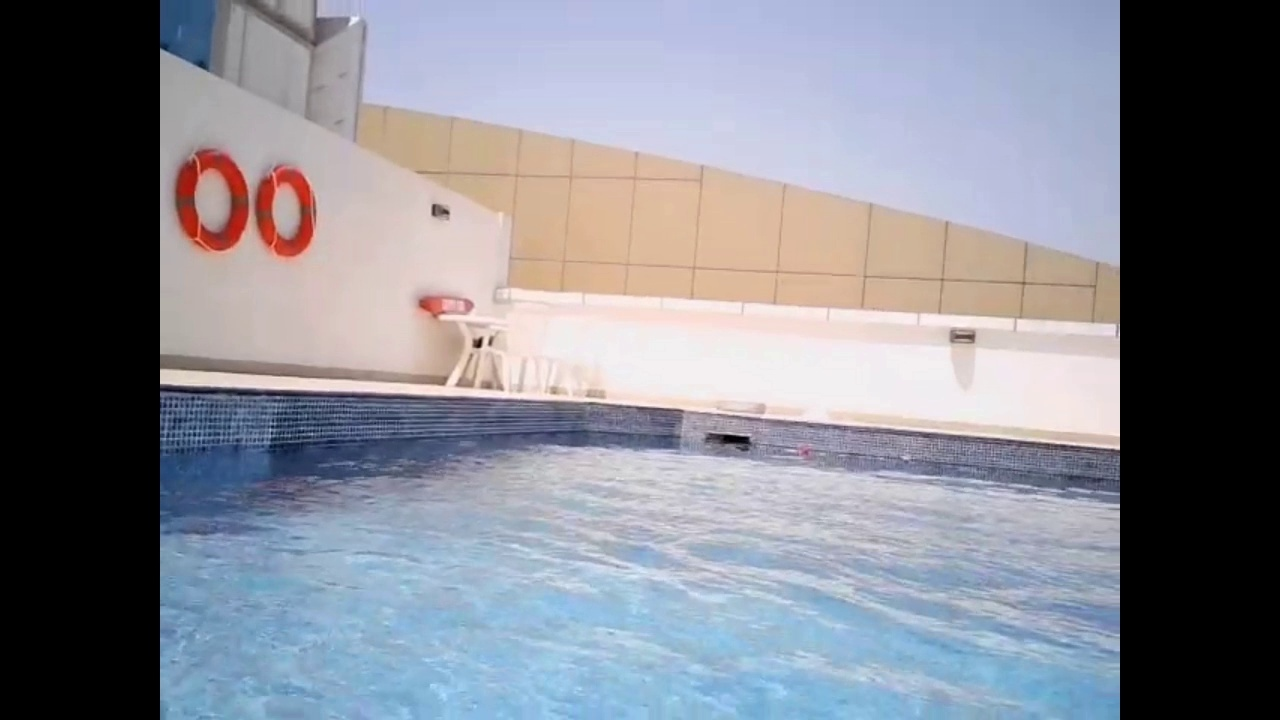debris: (891, 450, 914, 467), (795, 443, 814, 457)
